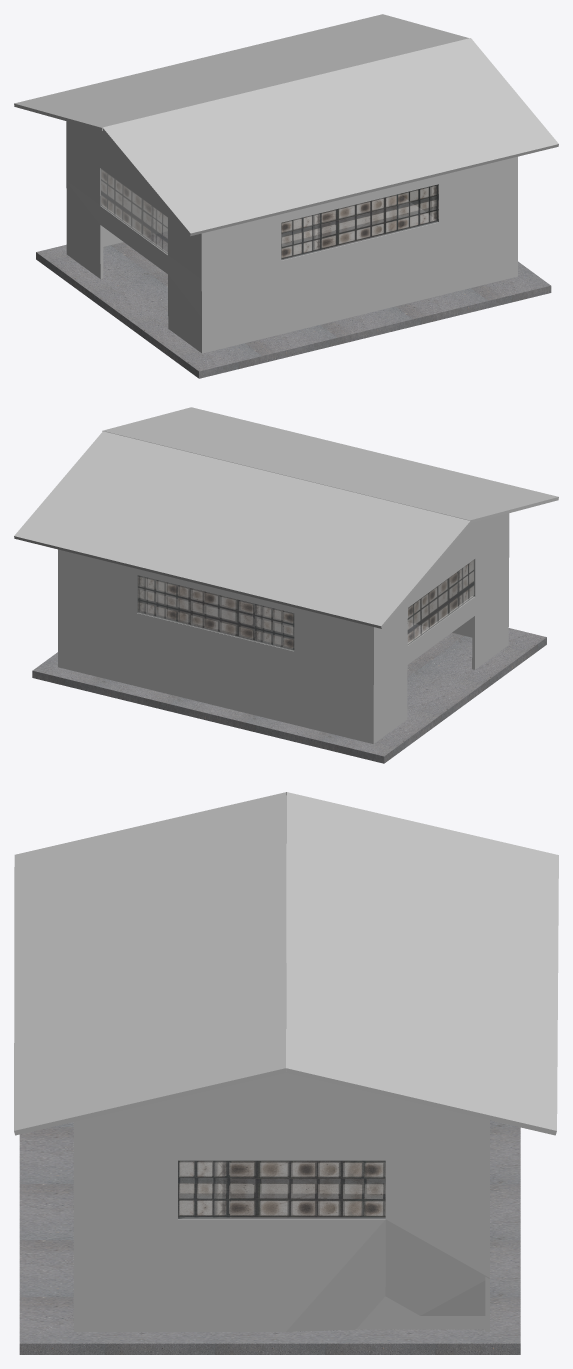
Rendered from angar.dae.
The picture shows the model from 3 angles, top to bottom: view 1: azimuth 30°, elevation 25°; view 2: azimuth 150°, elevation 25°; view 3: azimuth 270°, elevation 25°; orthographic projection. The views are drawn at different scales.
Parts seen in each view (by area): view 1: Cube_004, Cube_001, Cube_008, Cube_002, Cube_006, Cube_007, Cube, Cube_003; view 2: Cube_004, Cube, Cube_008, Cube_002, Cube_005, Cube_007, Cube_001, Cube_003; view 3: Cube_004, Cube_003, Cube_008, Cube_007.
Boxes of the visible parts, x1=… form: Cube_004: x1=14, y1=14, x2=558, y2=236; Cube_001: x1=202, y1=156, x2=517, y2=353; Cube_008: x1=36, y1=194, x2=551, y2=378; Cube_002: x1=66, y1=121, x2=202, y2=352; Cube_006: x1=281, y1=184, x2=438, y2=259; Cube_007: x1=101, y1=169, x2=167, y2=254; Cube: x1=103, y1=170, x2=167, y2=246; Cube_003: x1=400, y1=185, x2=436, y2=219; Cube_004: x1=14, y1=407, x2=558, y2=628; Cube: x1=58, y1=549, x2=373, y2=743; Cube_008: x1=32, y1=584, x2=546, y2=763; Cube_002: x1=373, y1=513, x2=509, y2=743; Cube_005: x1=137, y1=575, x2=294, y2=650; Cube_007: x1=408, y1=559, x2=474, y2=644; Cube_001: x1=407, y1=561, x2=472, y2=637; Cube_003: x1=138, y1=575, x2=174, y2=610; Cube_004: x1=14, y1=792, x2=558, y2=1135; Cube_003: x1=74, y1=1073, x2=489, y2=1331; Cube_008: x1=19, y1=1120, x2=520, y2=1354; Cube_007: x1=178, y1=1160, x2=385, y2=1218.
Bounding box in the file's own units: 22.94 × 19.11 × 11.3.
